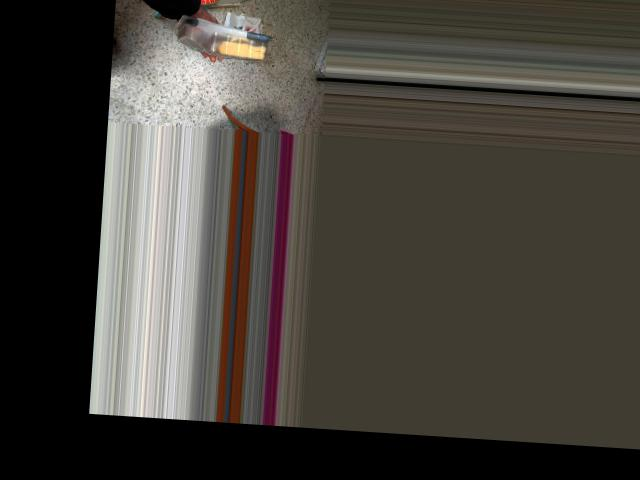cheese: (177, 15, 270, 63)
